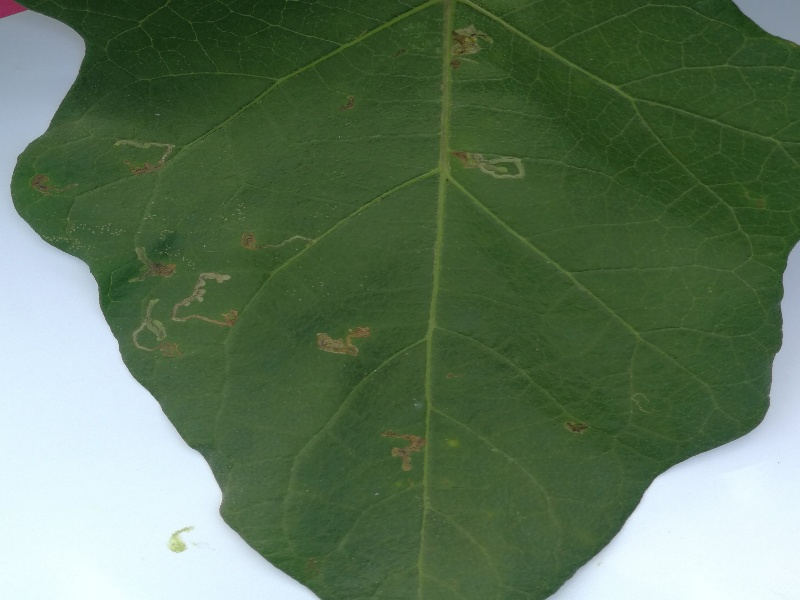leafminer: (169, 262, 243, 335), (104, 136, 186, 181), (309, 314, 379, 364), (379, 426, 432, 489), (443, 150, 528, 184), (127, 295, 171, 358), (236, 228, 318, 258), (445, 24, 498, 67)
